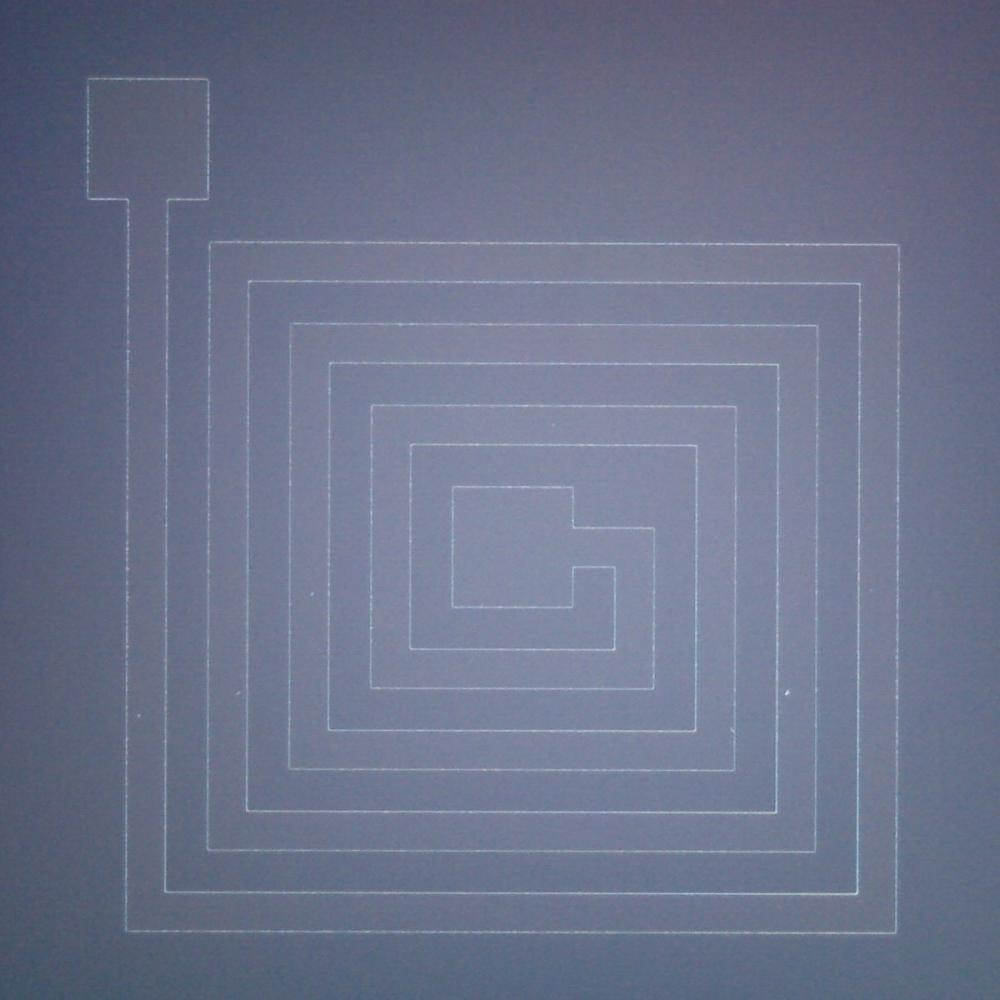dot: (784, 690, 790, 696), (310, 592, 314, 596), (236, 691, 240, 695), (138, 714, 142, 718)
